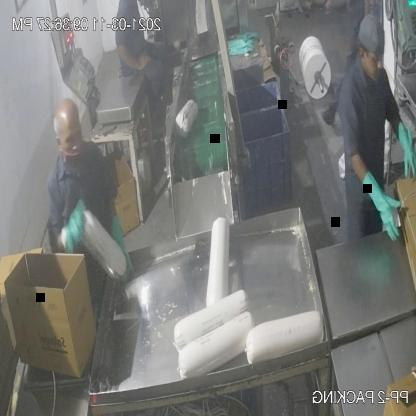glove: (360, 171, 401, 247)
no_glove: (115, 34, 152, 79)
